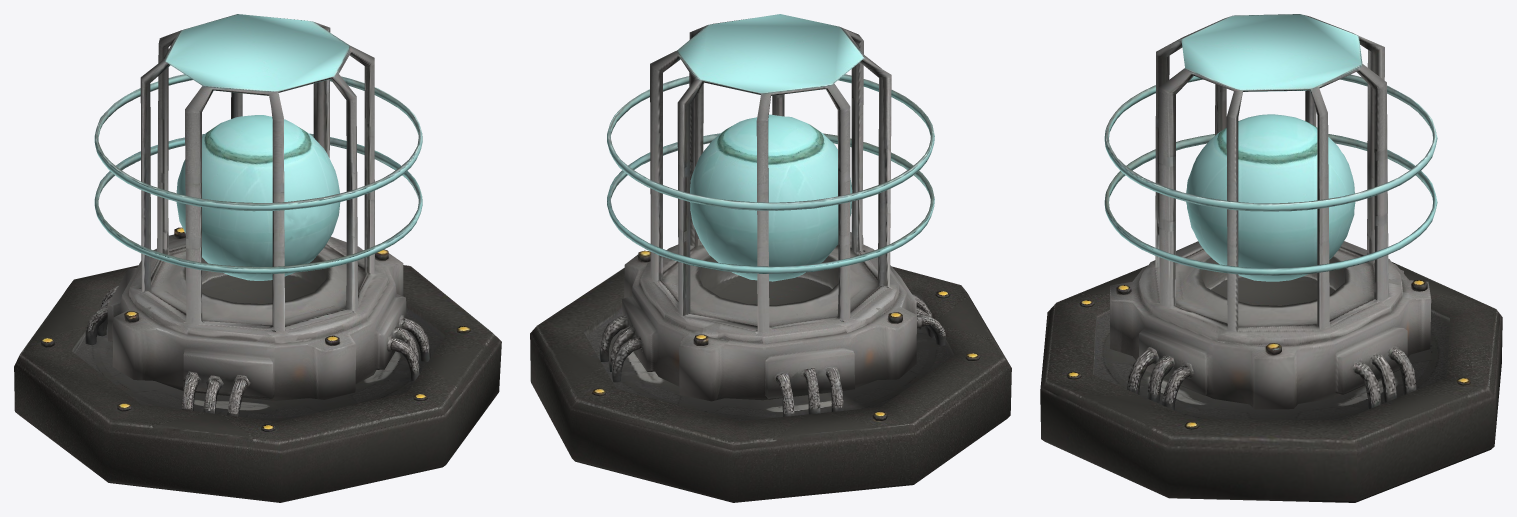
The model's file is tripo_convert_cb97fe44-db3f-4b08-9b31-0f41d2cff02e.fbx.
3 views of the same model, side by side, from view 1: azimuth 30°, elevation 25°; view 2: azimuth 150°, elevation 25°; view 3: azimuth 270°, elevation 25° (orthographic).
Parts seen in each view (by area): view 1: tripo_node_cb97fe44; view 2: tripo_node_cb97fe44; view 3: tripo_node_cb97fe44.
Part boxes in pixels (x1,y1,x2,y2): tripo_node_cb97fe44: [14, 14, 501, 502]; tripo_node_cb97fe44: [530, 14, 1011, 502]; tripo_node_cb97fe44: [1040, 14, 1502, 502].
Size of the model in its own units: 0.998 by 0.8457 by 0.998.
Materials: 1 (1 with a texture image).
